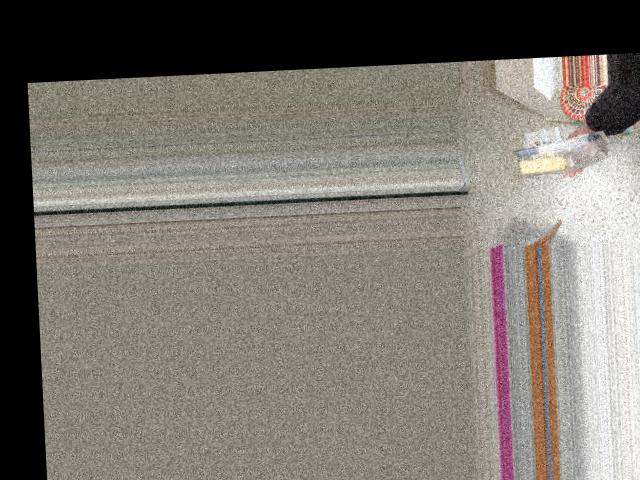cheese: (514, 131, 607, 177)
